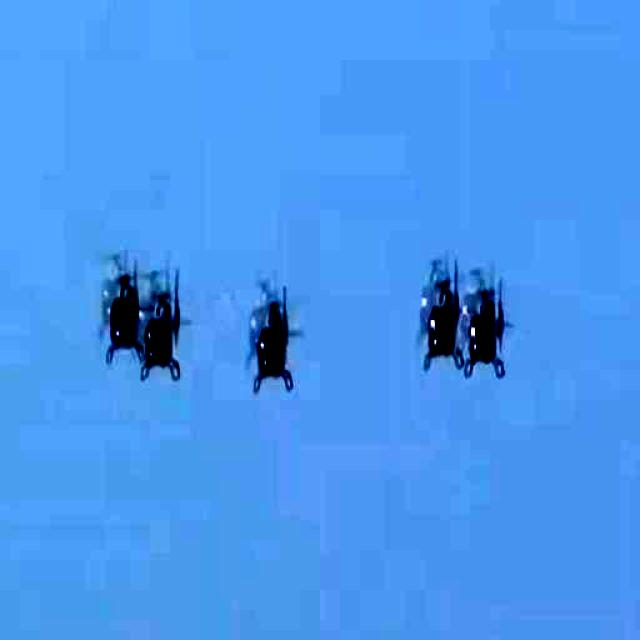drone: (82, 231, 155, 408), (228, 259, 314, 408), (138, 249, 198, 415), (465, 265, 536, 395), (399, 238, 462, 368)
